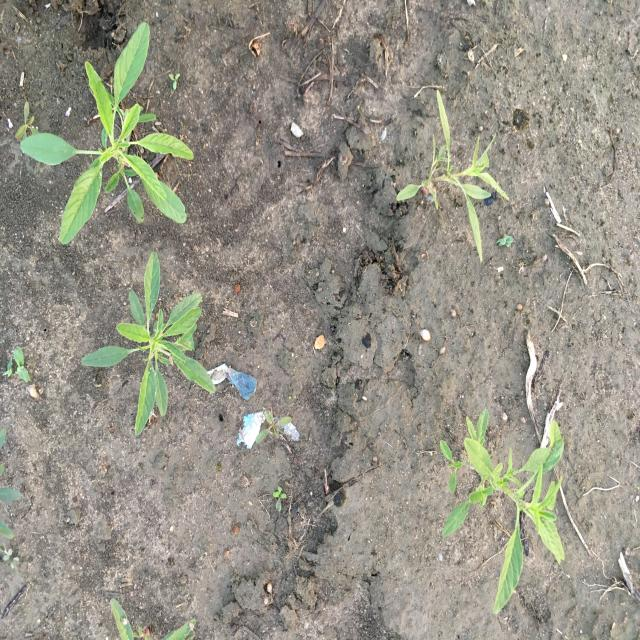Waterhemp: (18, 20, 195, 246), (438, 407, 566, 617), (80, 248, 218, 438), (394, 85, 511, 264)
